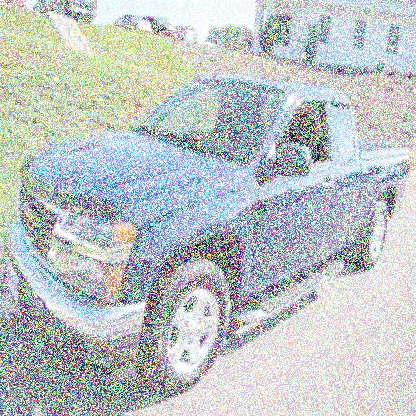Vehicle: (3, 76, 413, 403)
